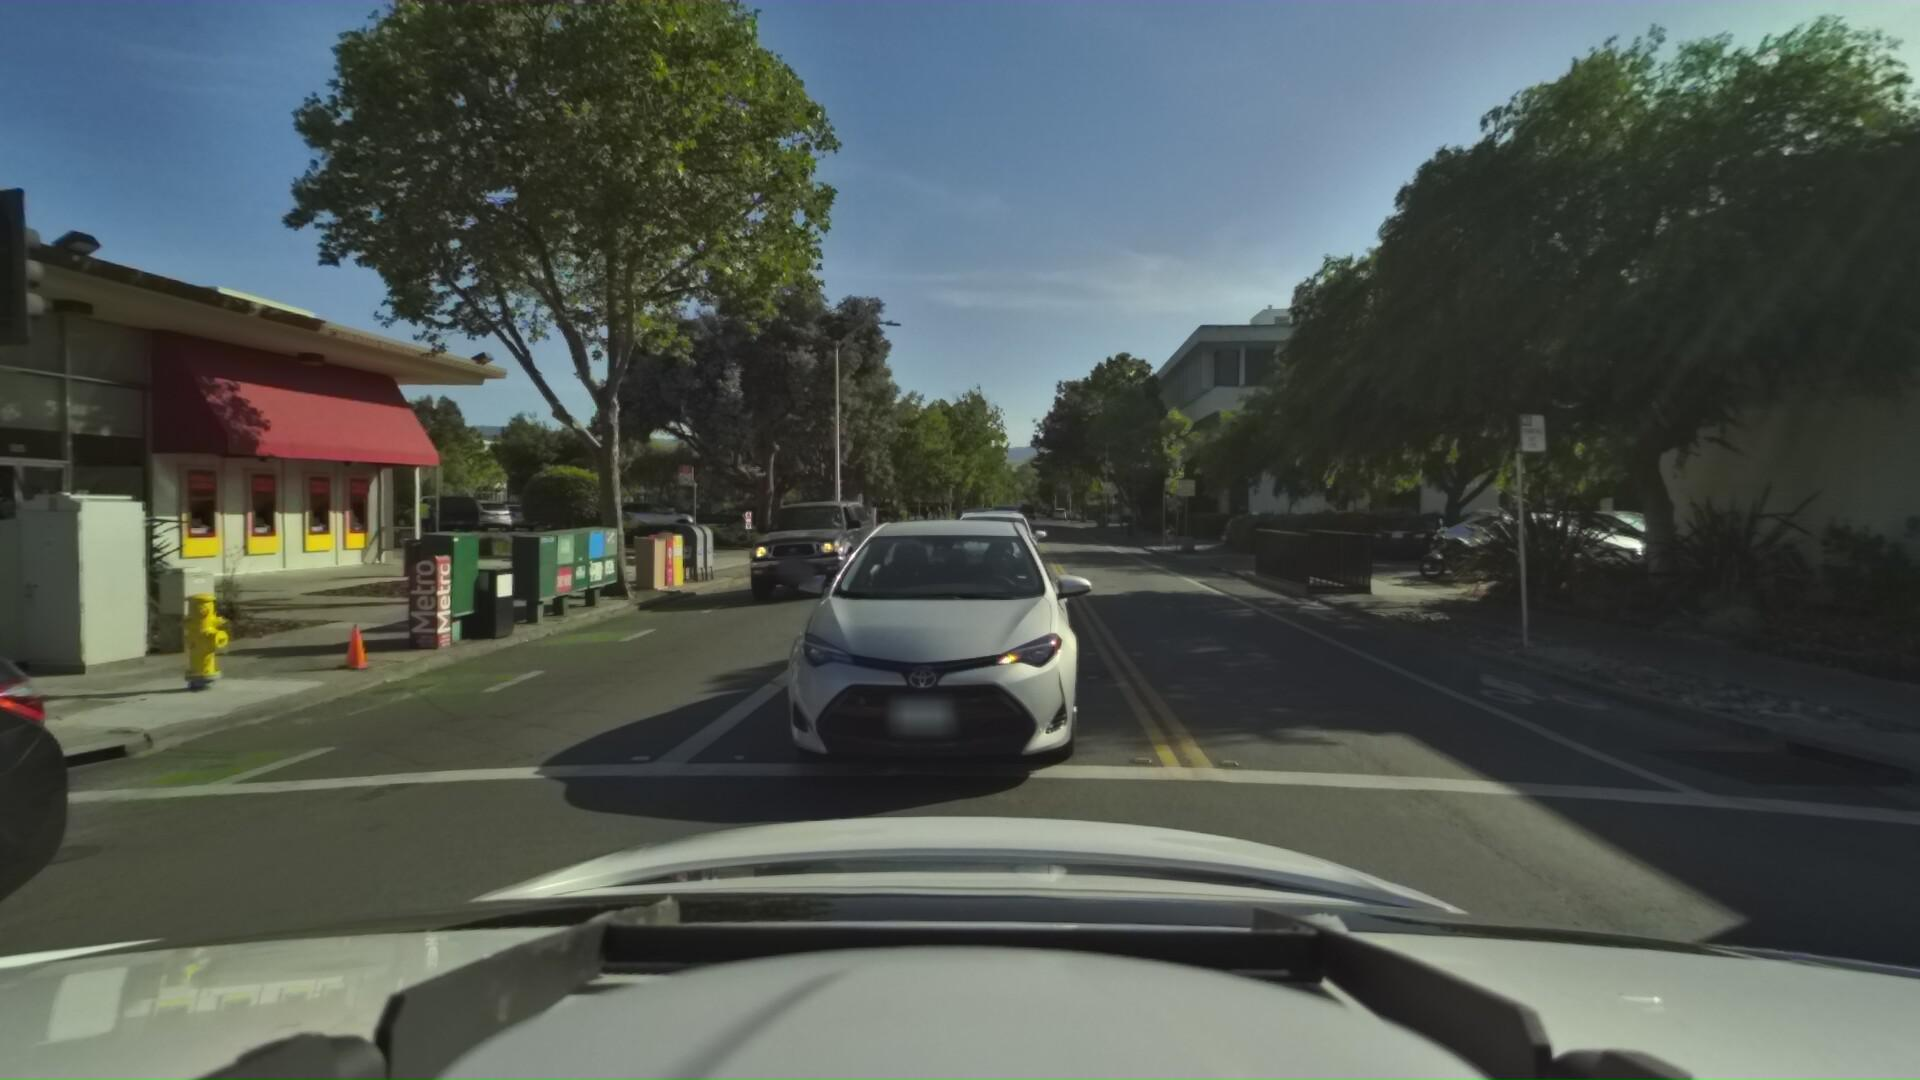car: (717, 508, 1098, 848), (1408, 510, 1650, 593), (723, 484, 876, 603), (1493, 516, 1698, 587), (945, 506, 1044, 592), (1357, 513, 1440, 567), (593, 498, 705, 537), (649, 498, 752, 531), (967, 506, 1022, 555)
motorcycle: (1399, 516, 1515, 595)
